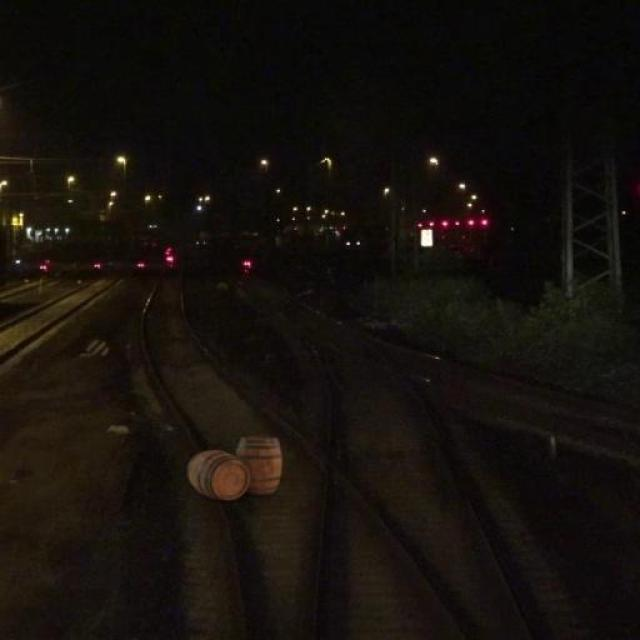Other_objects: (180, 431, 297, 504)
